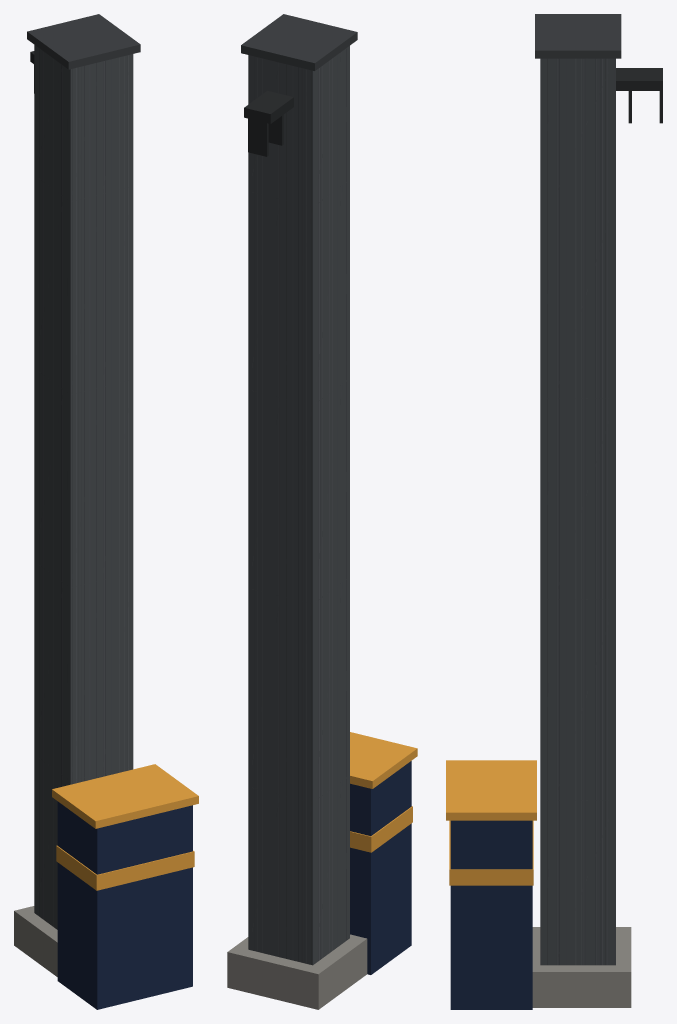
File: MinidoracatKnoxPass_slidemotor2_B.glb
3 views of the same model, side by side, from view 1: azimuth 30°, elevation 25°; view 2: azimuth 150°, elevation 25°; view 3: azimuth 270°, elevation 25° (orthographic). The views are drawn at different scales.
Parts seen in each view (by area): view 1: MinidoracatKnoxPass_slidemotor2_B; view 2: MinidoracatKnoxPass_slidemotor2_B; view 3: MinidoracatKnoxPass_slidemotor2_B.
Boxes of the visible parts, box(x1,y1,x2,y2) form: MinidoracatKnoxPass_slidemotor2_B: box(14, 14, 198, 1009); MinidoracatKnoxPass_slidemotor2_B: box(227, 14, 417, 1009); MinidoracatKnoxPass_slidemotor2_B: box(446, 14, 662, 1009).
Size of the model in its own units: 0.56 by 4.74 by 0.977.
1 material, 1 textured.
